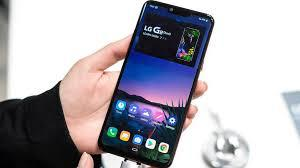Hand: (63, 27, 207, 145)
Smartphone: (97, 12, 213, 159)
